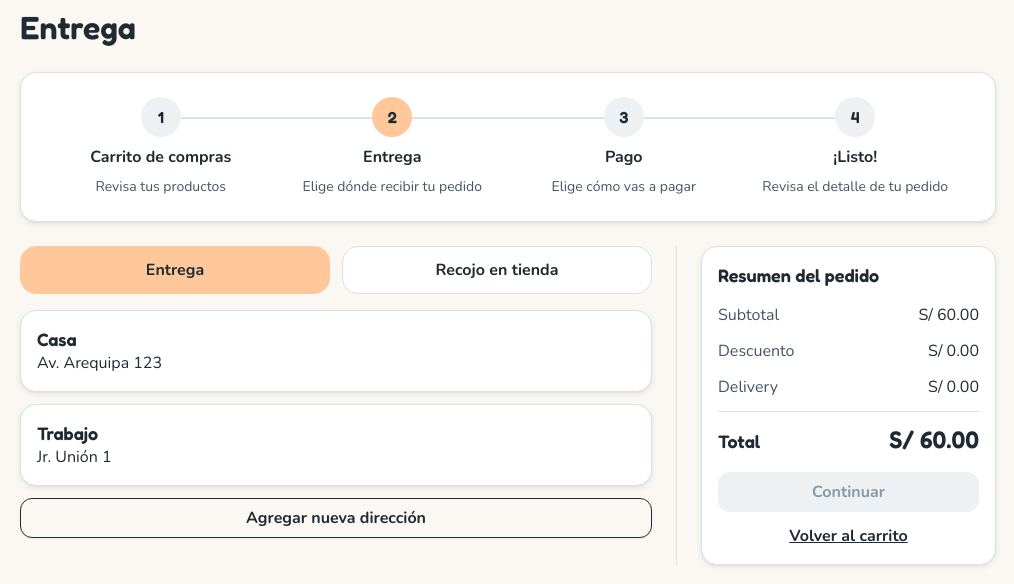
Scenario: DeliveryStepPage › al volver a Entrega conserva la dirección elegida
The image size is (1014, 584).
Click the radio button labelled "Casa Av. Arequipa 123" at (336, 351), box [20, 310, 652, 392]
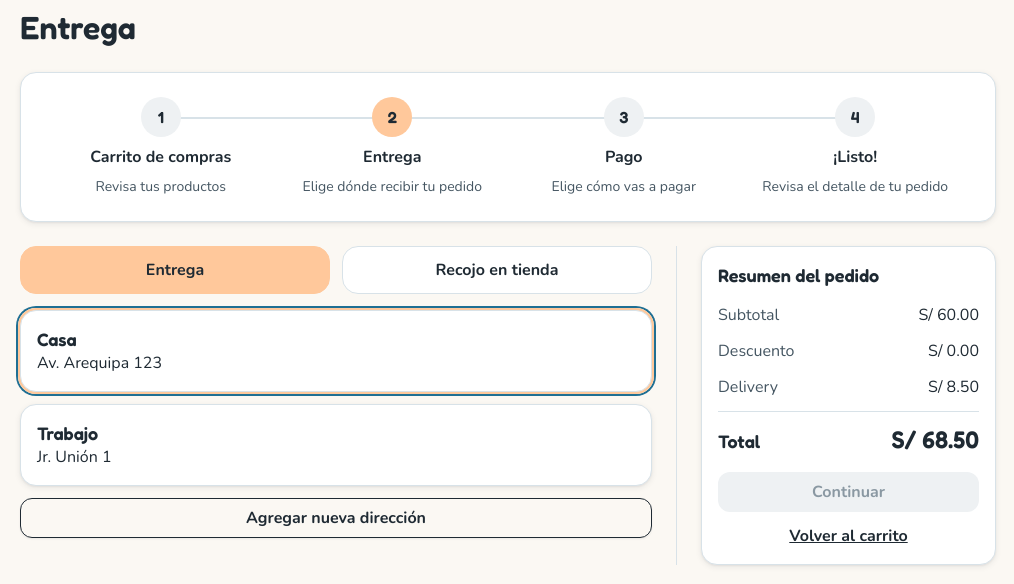
Now the text "S/ 8.50" is shown, box [928, 375, 979, 399]
Click the radio button labelled "Recojo en tienda" at (497, 270), box [342, 246, 652, 294]
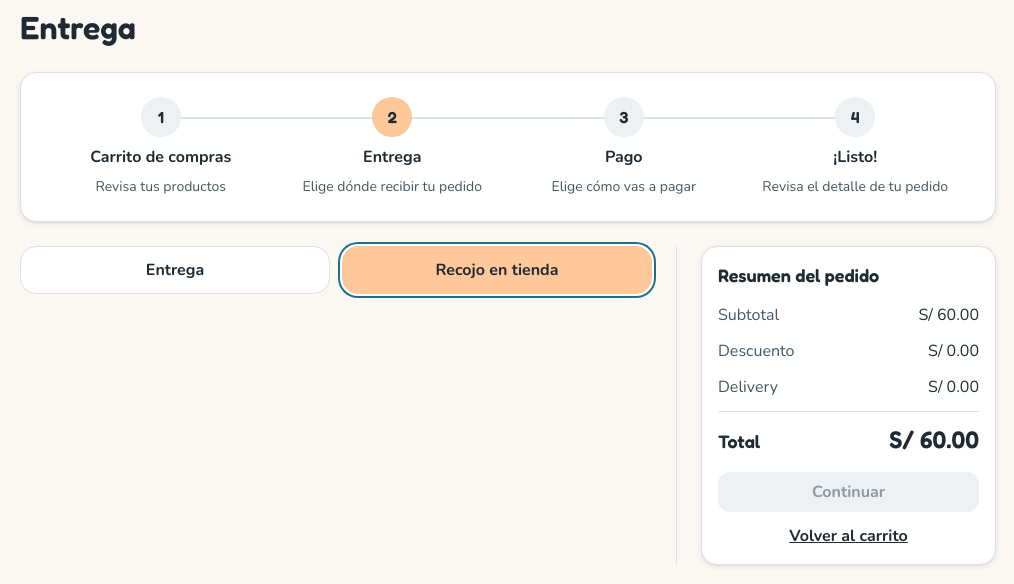
Click the radio button labelled "Entrega" at (175, 270), box [20, 246, 330, 294]
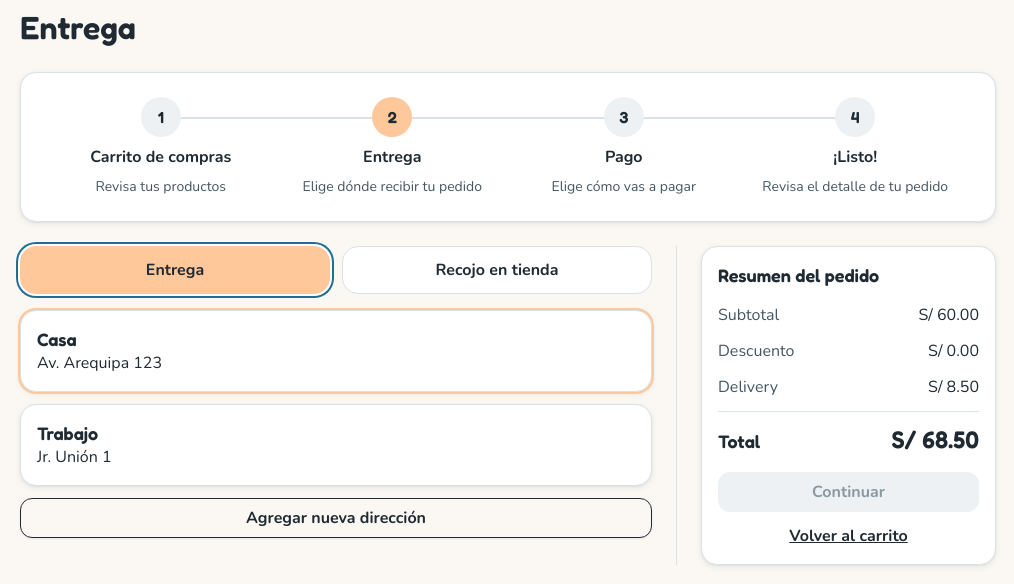
Now the radio button labelled "Casa Av. Arequipa 123" is checked, box [20, 310, 652, 392]
Now the text "S/ 8.50" is shown, box [928, 375, 979, 399]
